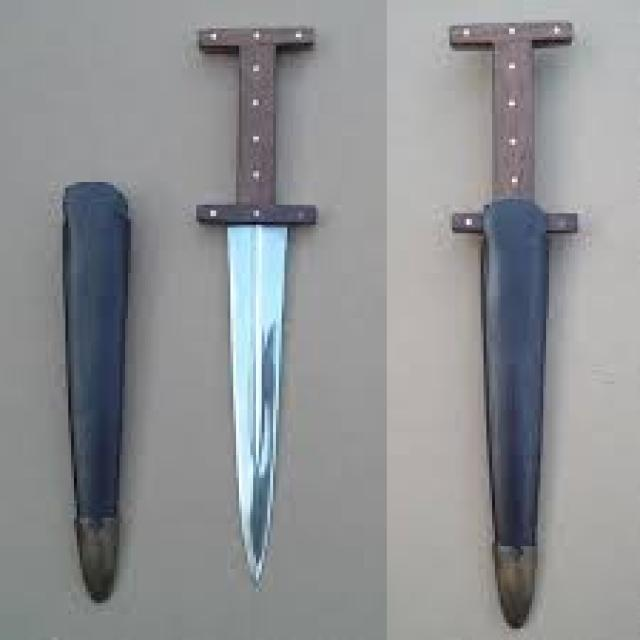Gun: (418, 11, 590, 622), (186, 18, 328, 584)
